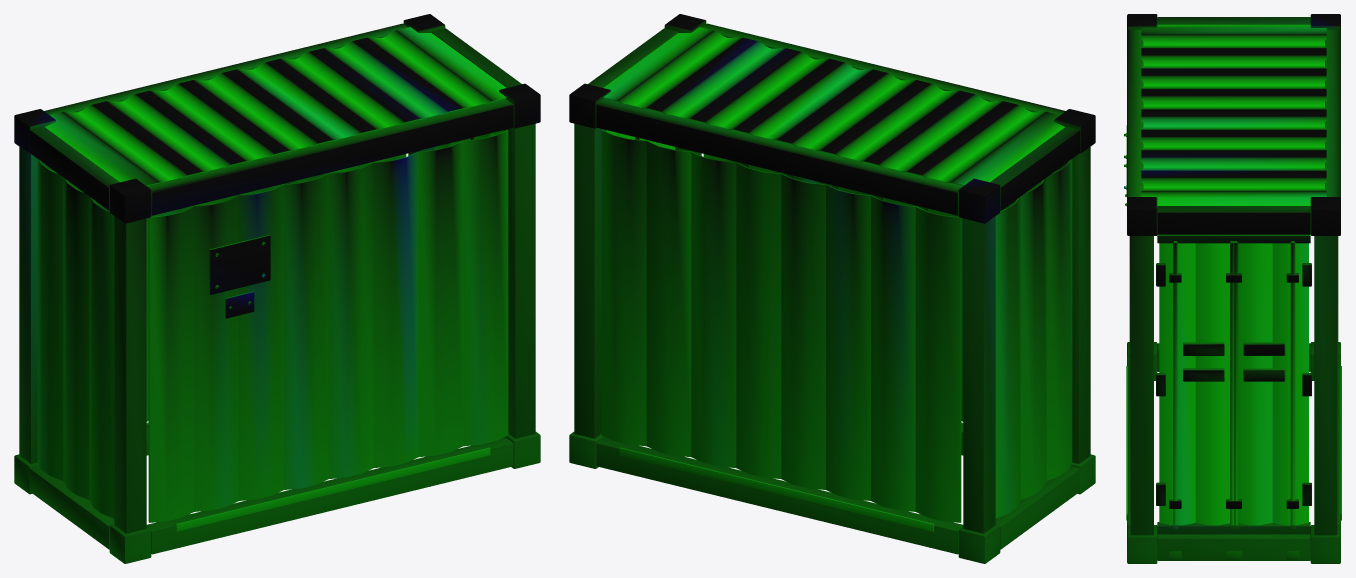
File: container_b.glb
3 renders of one model, left to right at view 1: azimuth 30°, elevation 25°; view 2: azimuth 150°, elevation 25°; view 3: azimuth 270°, elevation 25°, orthographic. The views are drawn at different scales.
Visible parts, largest first — view 1: ContainerB; view 2: ContainerB; view 3: ContainerB.
Part boxes in pixels (left/top/right/bottom): ContainerB: left=14, top=14, right=540, bottom=563; ContainerB: left=569, top=14, right=1095, bottom=563; ContainerB: left=1124, top=14, right=1341, bottom=563.
Bounding box in the file's own units: 2.61 × 2.2 × 1.22.
